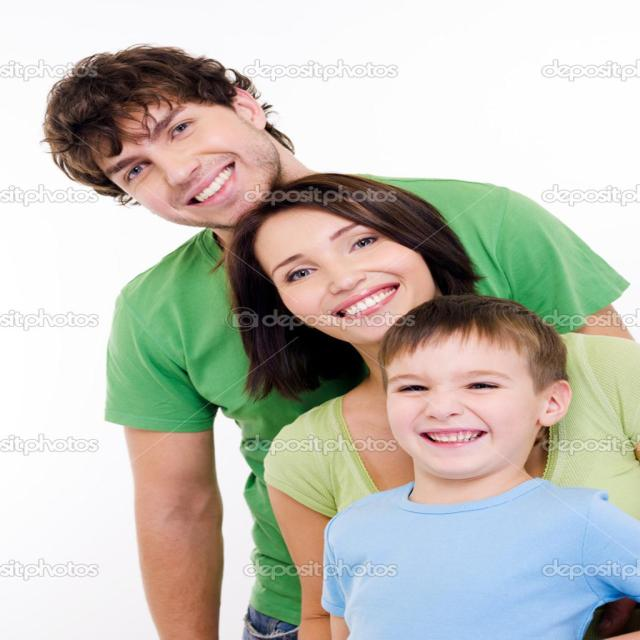Face: (379, 298, 577, 492), (56, 73, 284, 236), (235, 179, 435, 347)
